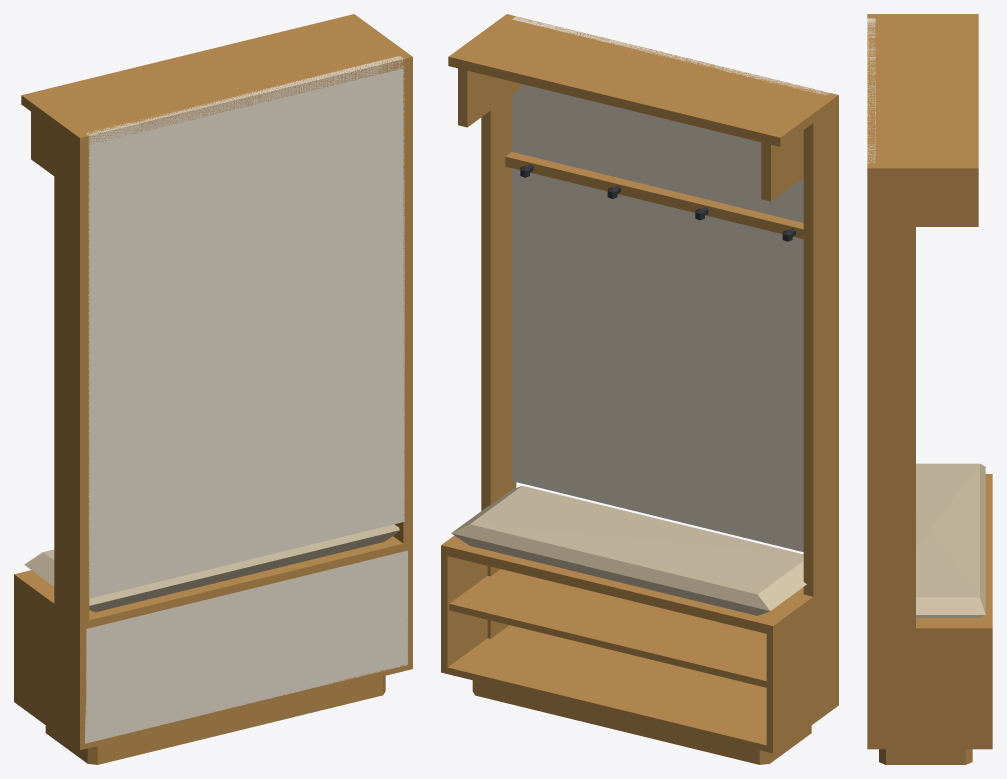
Rendered from SM_LPI_Storage_HallUnit_01.fbx.
3 renders of one model, left to right at view 1: azimuth 30°, elevation 25°; view 2: azimuth 150°, elevation 25°; view 3: azimuth 270°, elevation 25°, orthographic. The views are drawn at different scales.
Parts seen in each view (by area): view 1: SM_LPI_Storage_HallUnit_01; view 2: SM_LPI_Storage_HallUnit_01; view 3: SM_LPI_Storage_HallUnit_01.
Boxes of the visible parts, left/top/right/bottom form: SM_LPI_Storage_HallUnit_01: left=14, top=14, right=412, bottom=764; SM_LPI_Storage_HallUnit_01: left=441, top=14, right=838, bottom=764; SM_LPI_Storage_HallUnit_01: left=867, top=14, right=992, bottom=764.
Size of the model in its own units: 1.05 by 1.92 by 0.36.
